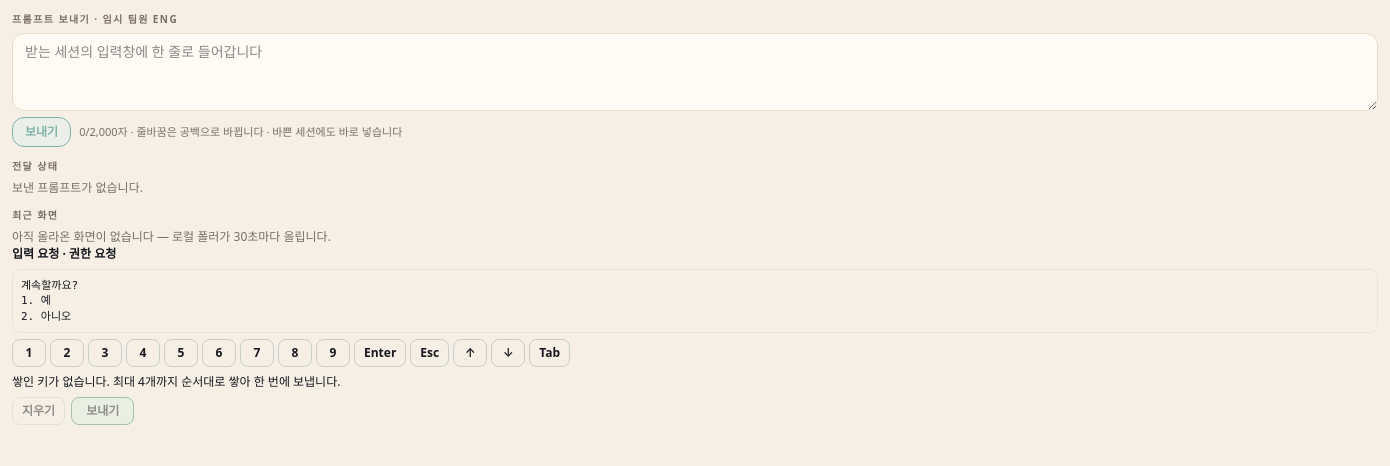
Test case: AgentConsole — 입력 요청 답하기 › 키를 쌓아 보내기를 누르면 sendConsoleKeys 에 화면이 보고 있는 입력 요청 값 그대로 보낸다
Click the button "↓": (508, 353) [491,339,525,367]
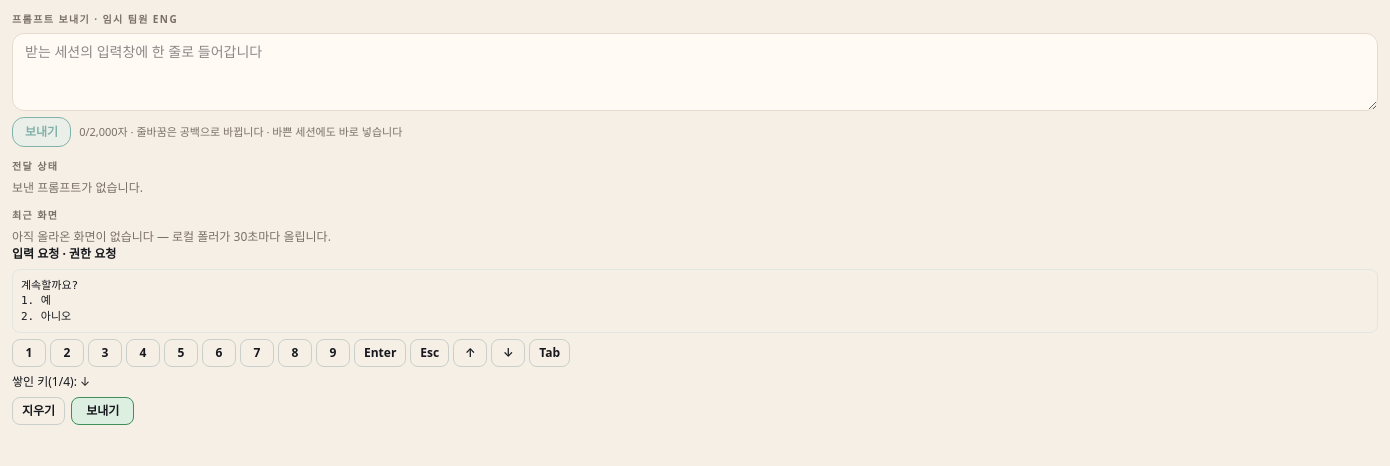
Click the button "Enter": (380, 353) [354,339,406,367]
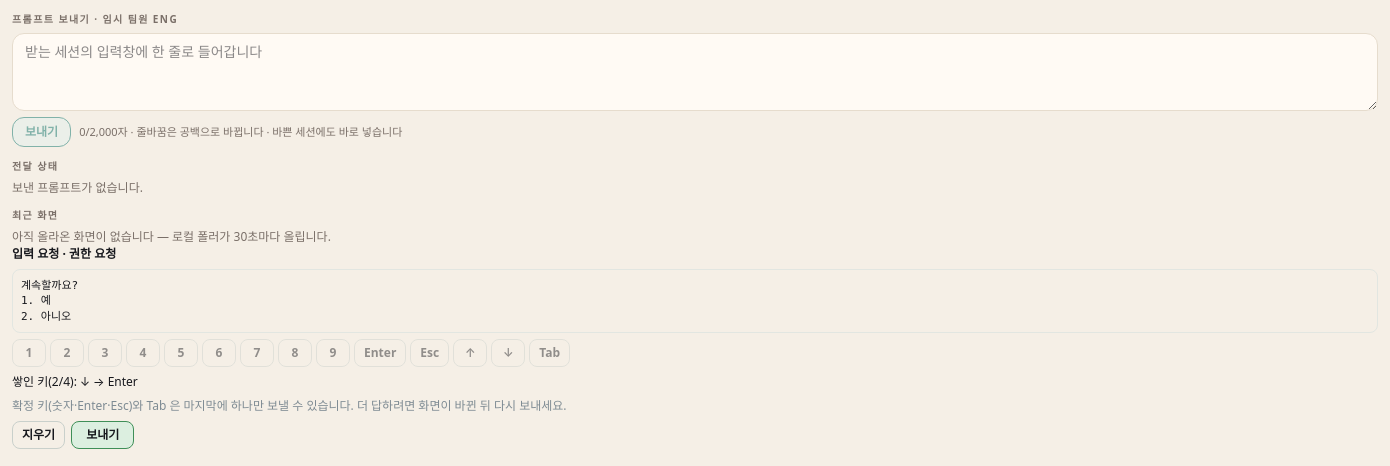
Expected: the text "쌓인 키(2/4): ↓ → Enter" is shown, [12,373,138,390]
Click the button "보내기" below "쌓인 키(2/4): ↓ → Enter": (103, 435) [71,421,134,449]
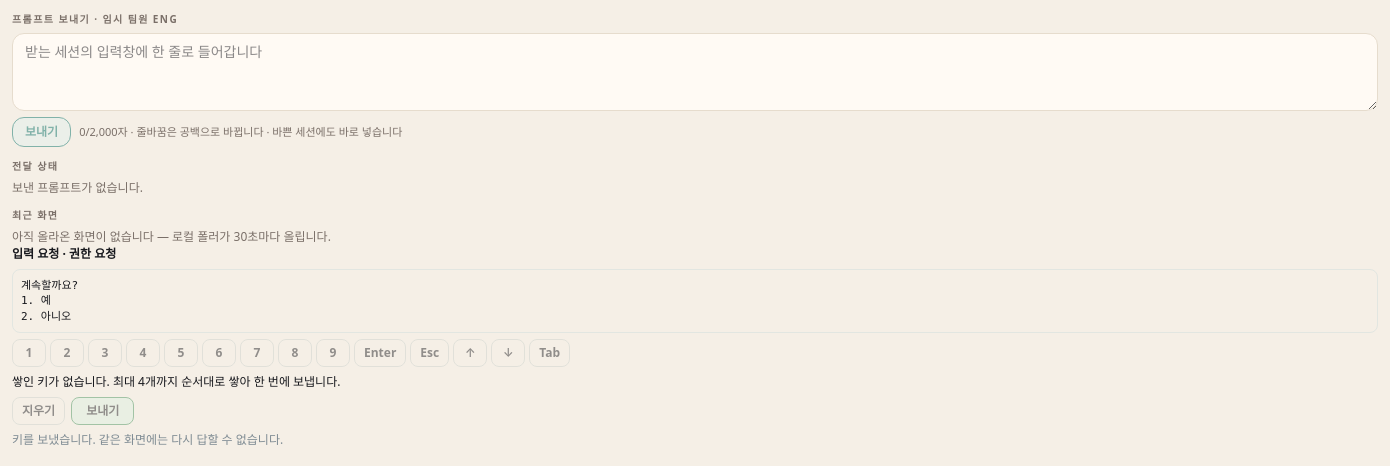
Expected: the message "키를 보냈습니다. 같은 화면에는 다시 답할 수 없습니다." is shown, [12,431,283,448]
Expected: the button "보내기" below "쌓인 키가 없습니다. 최대 4개까지 순서대로 쌓아 한 번에 보냅니다." is disabled, [71,397,134,425]
